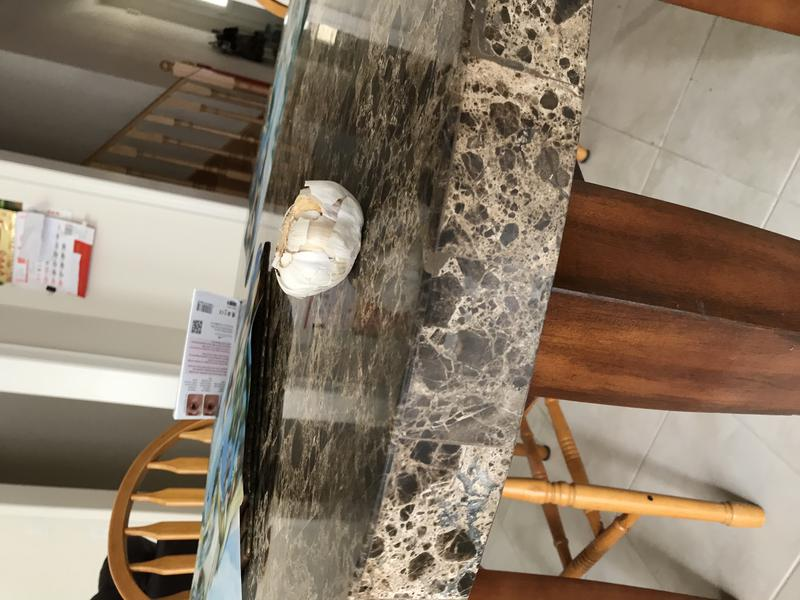garlic: (266, 171, 369, 304)
